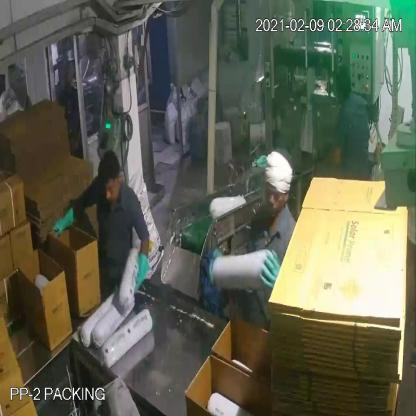glove: (127, 241, 151, 293), (260, 247, 282, 297), (52, 202, 76, 241)
